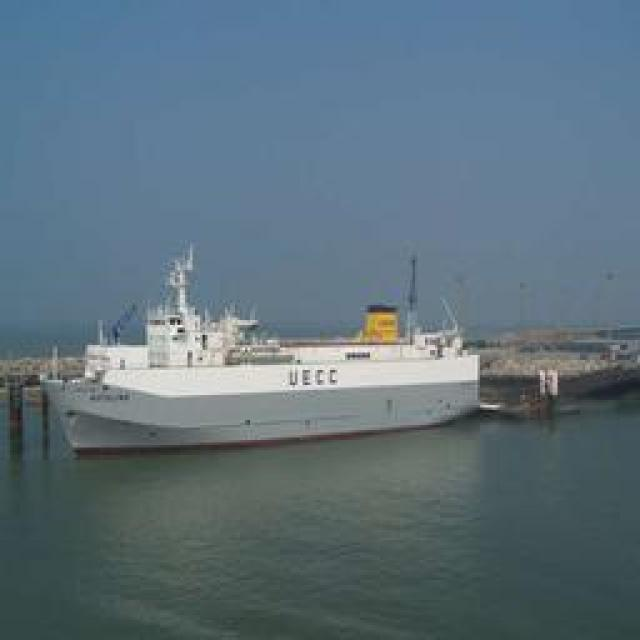ship2: (61, 242, 481, 450)
